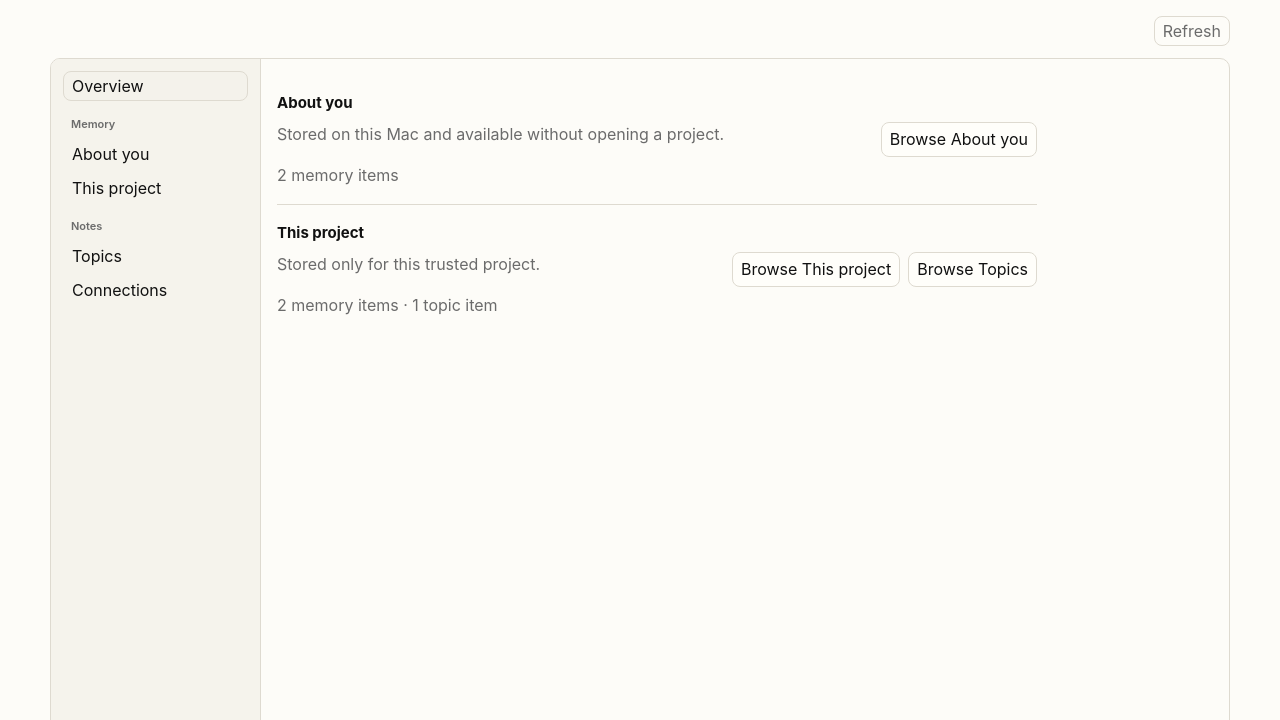
Test: LibraryPanel › opens project memory and topics from separate trusted overview actions
Step 1. Click the button "Browse This project" → click(816, 269), box x1=732 y1=252 x2=900 y2=287
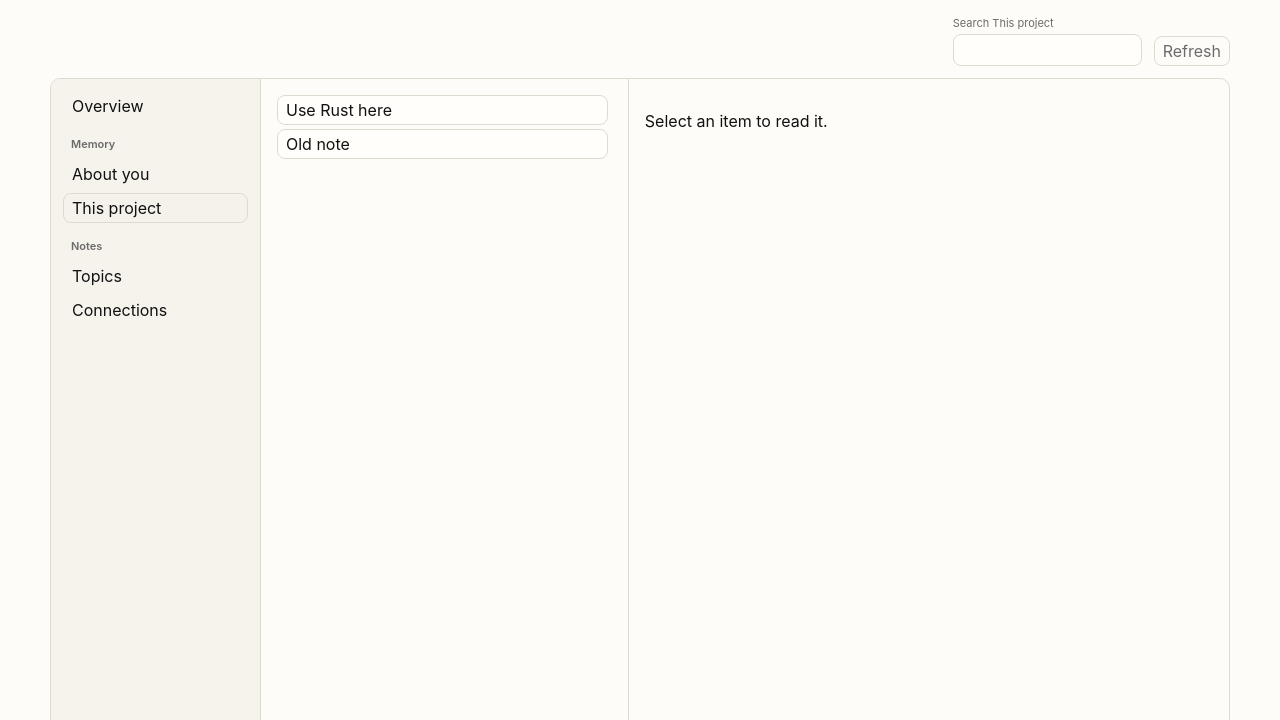
Check: the search field labelled "Search This project" is shown, box x1=953 y1=34 x2=1142 y2=66
Step 2. Click the button "Overview" → click(156, 106), box x1=63 y1=91 x2=248 y2=121
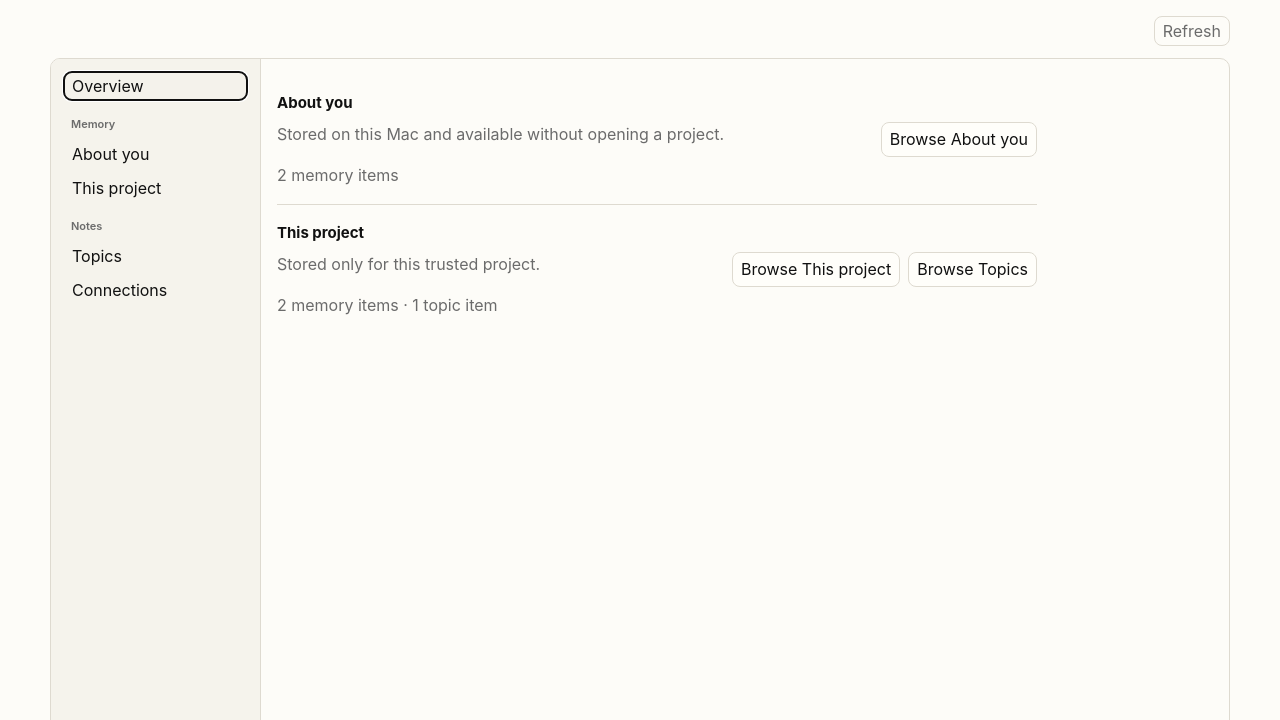
Step 3. Click the button "Browse Topics" → click(973, 269), box x1=908 y1=252 x2=1037 y2=287
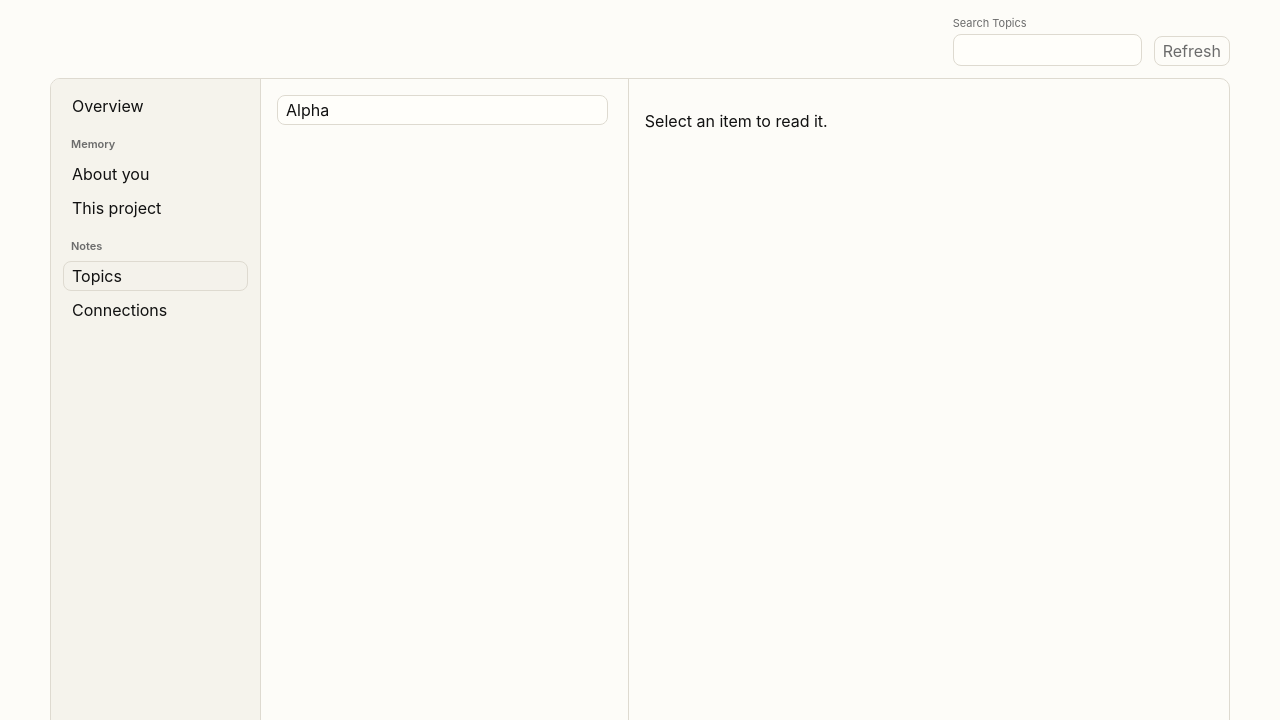
Check: the search field labelled "Search Topics" is shown, box x1=953 y1=34 x2=1142 y2=66
